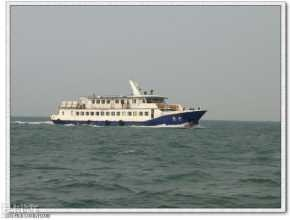youlun: (44, 80, 207, 125)
